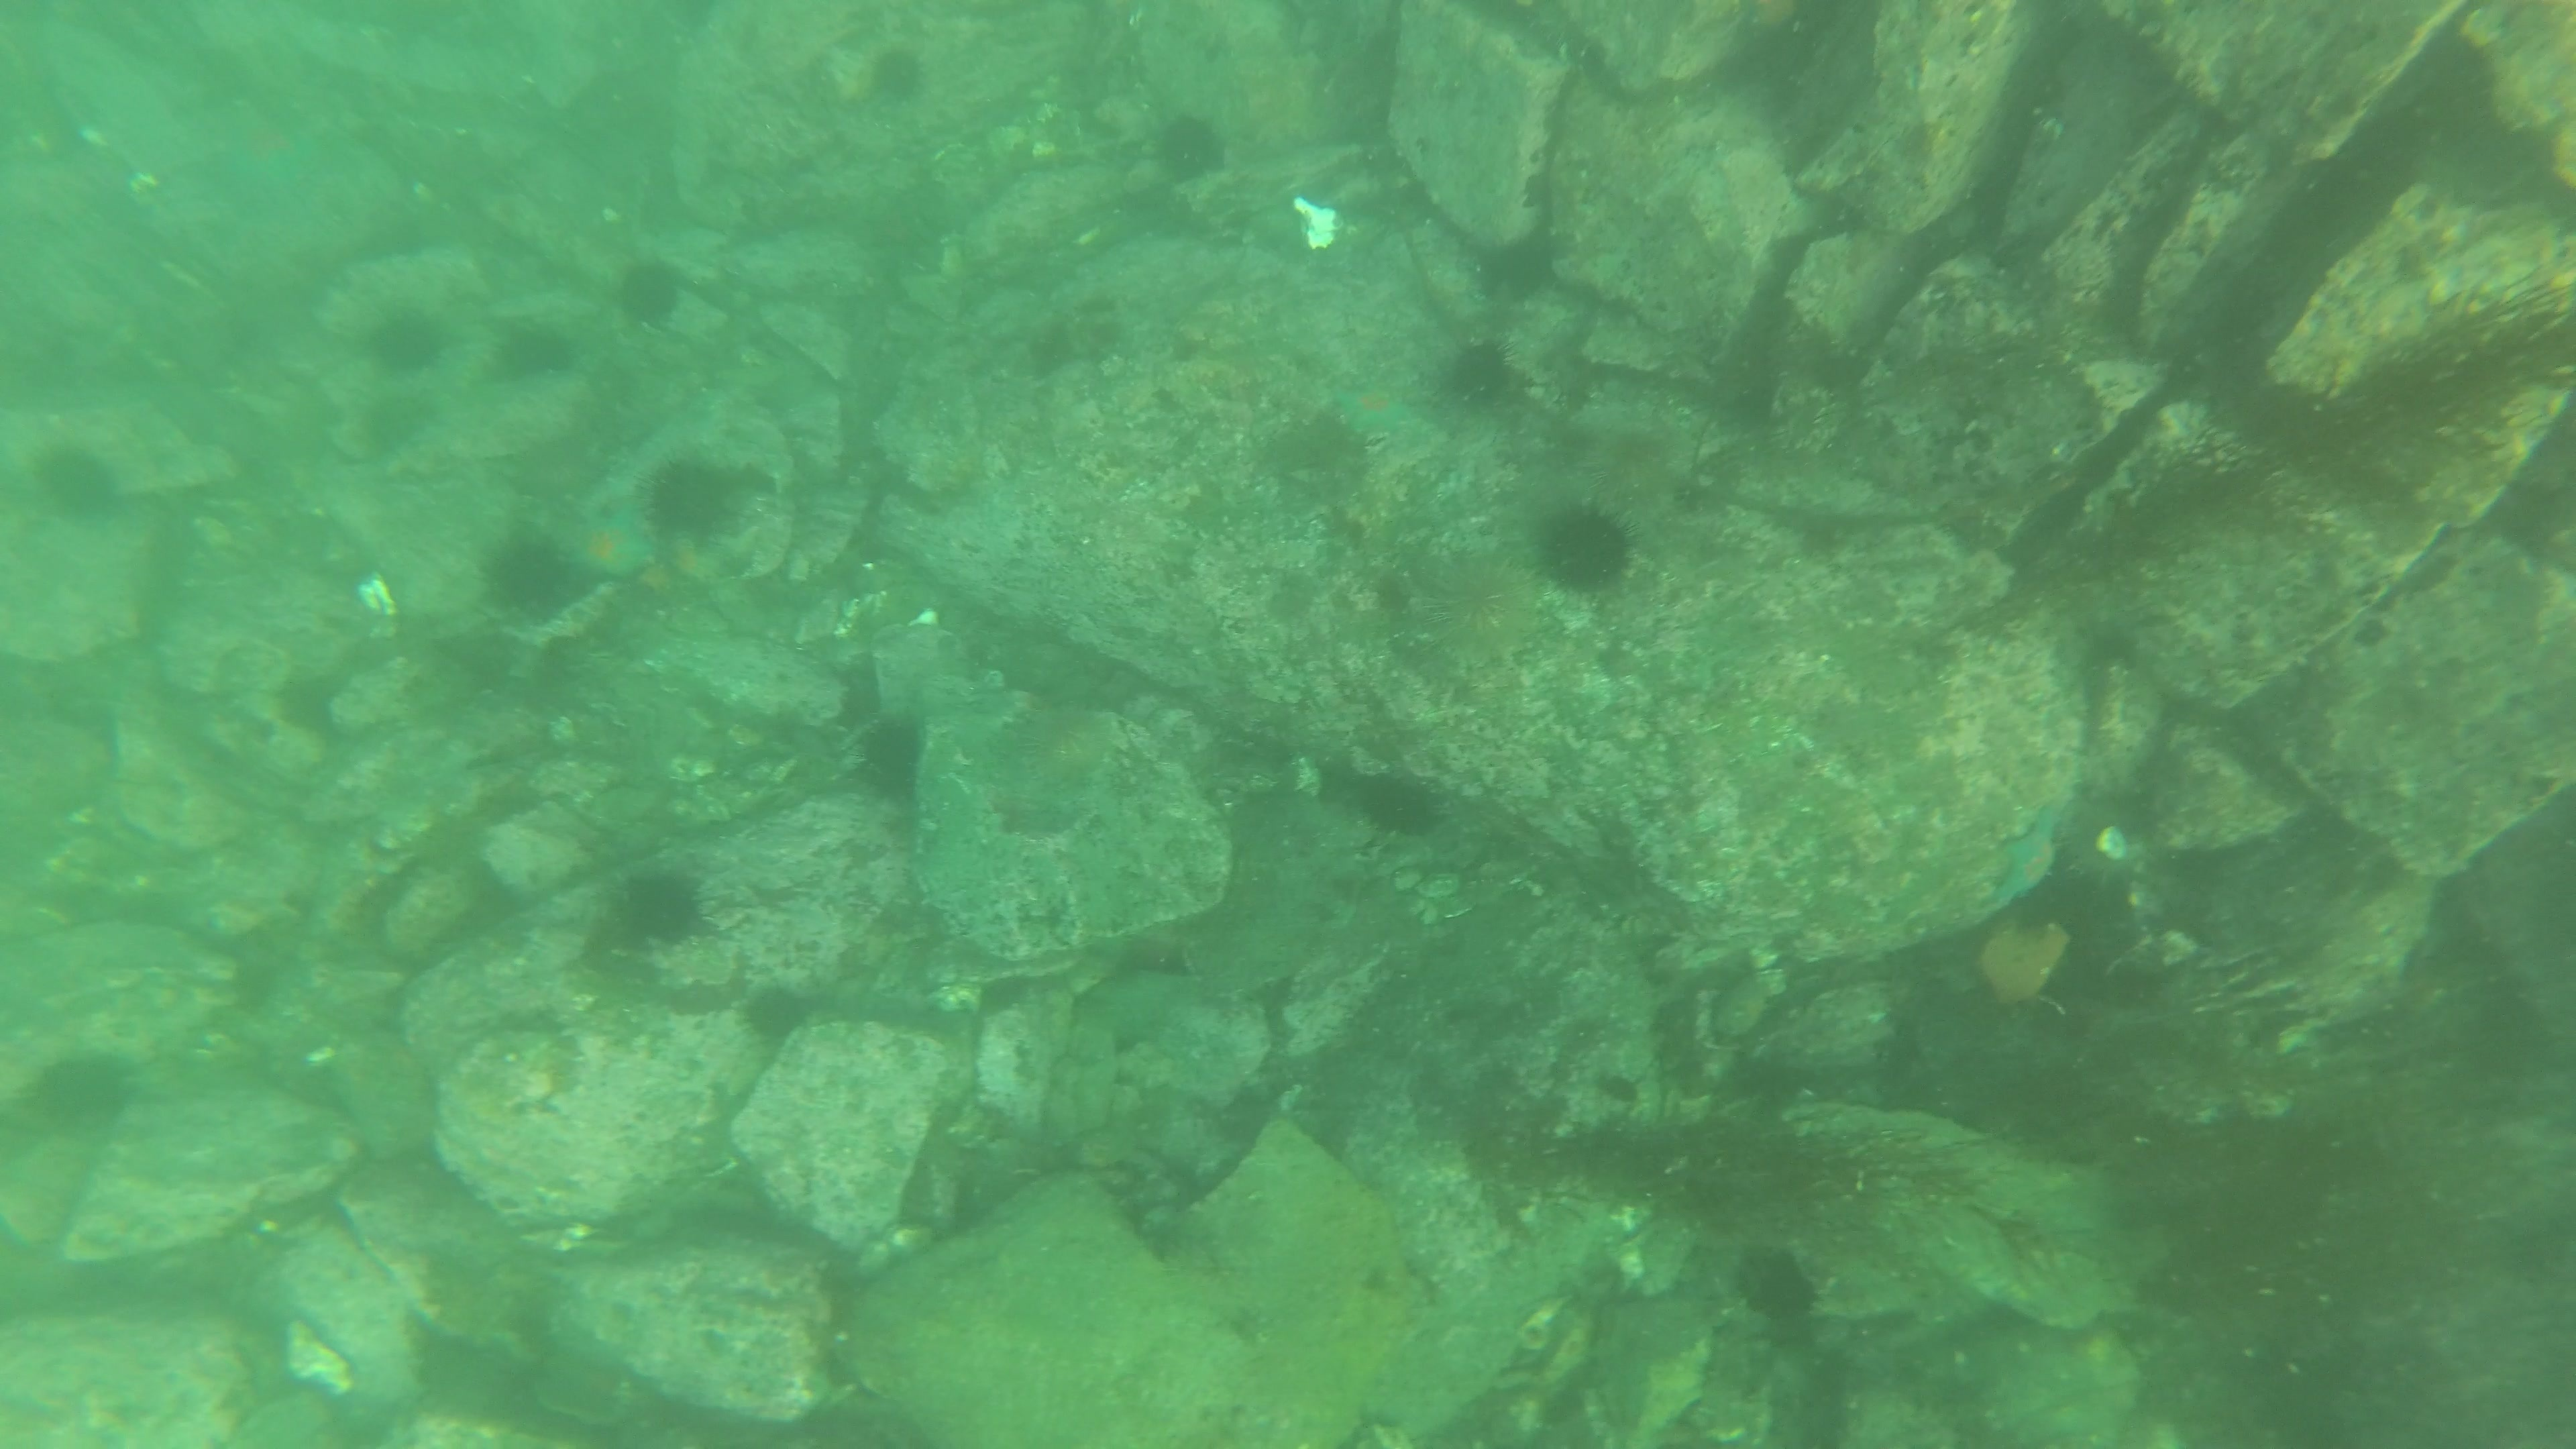echinus: (1414, 548, 1548, 672), (1571, 416, 1698, 524), (637, 449, 754, 550), (23, 1044, 142, 1143), (1529, 497, 1642, 600), (474, 524, 586, 625), (602, 860, 717, 957), (28, 435, 127, 531), (1729, 1238, 1828, 1332), (1346, 761, 1449, 846), (1430, 331, 1527, 419), (847, 708, 934, 805), (359, 297, 453, 382), (1145, 104, 1233, 191), (487, 311, 580, 391), (609, 249, 694, 336), (350, 382, 441, 462), (860, 41, 936, 113)
starfish: (991, 692, 1152, 810), (1978, 801, 2066, 918), (552, 497, 660, 591), (1323, 370, 1437, 451)
